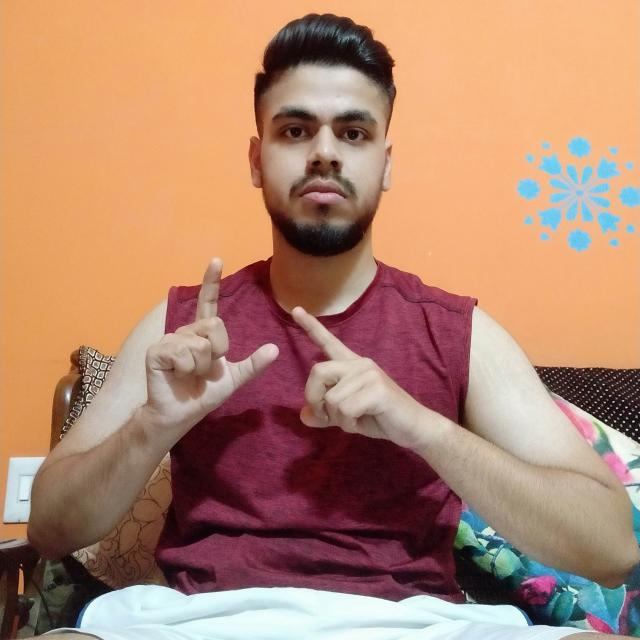J: (137, 250, 430, 461)
